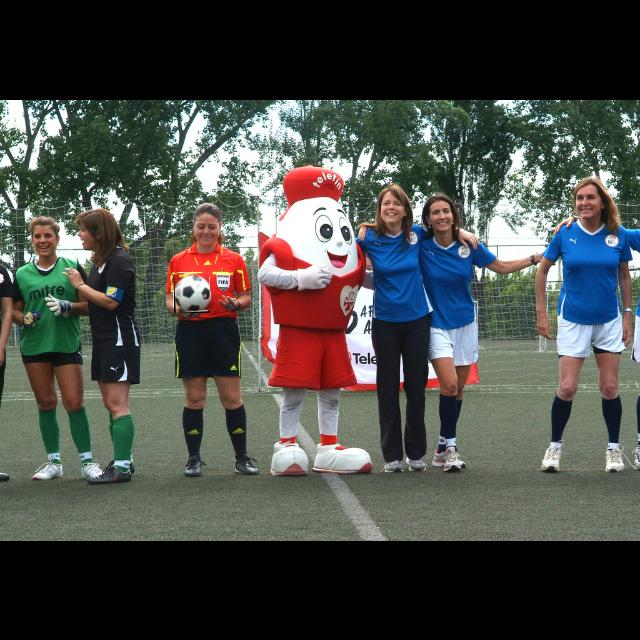Football: (174, 273, 210, 313)
